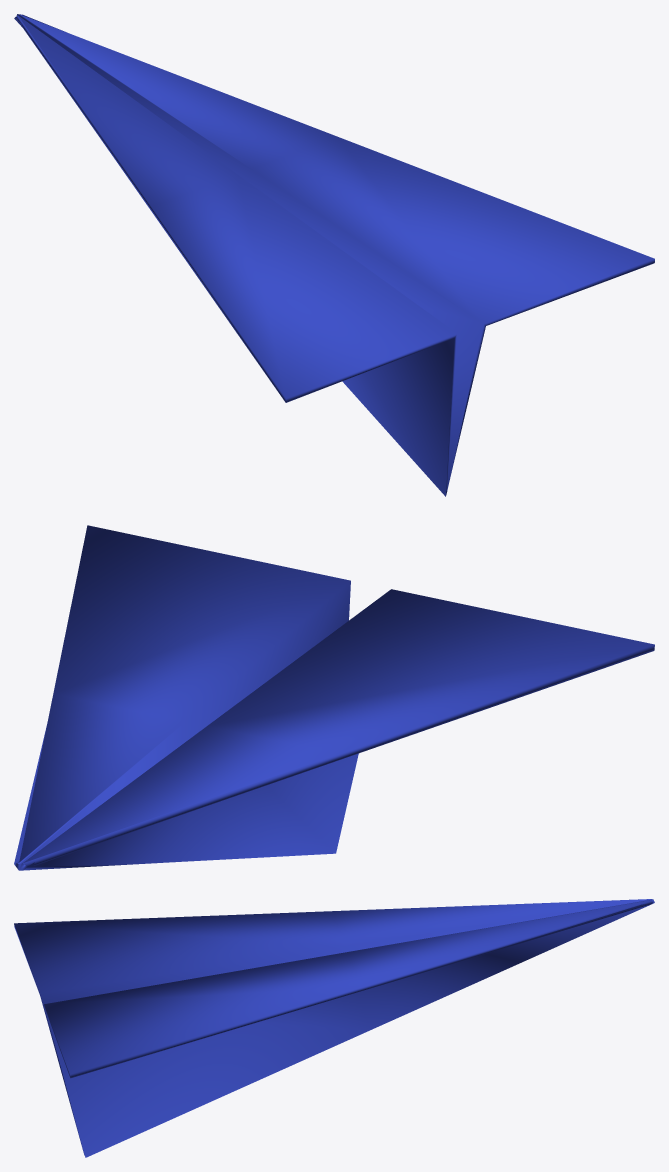
3 views of the same model, one above another, from view 1: azimuth 30°, elevation 25°; view 2: azimuth 150°, elevation 25°; view 3: azimuth 270°, elevation 25° (orthographic). The views are drawn at different scales.
Parts seen in each view (by area): view 1: Plane; view 2: Plane; view 3: Plane.
Boxes of the visible parts, bbox=[...] form: Plane: bbox=[14, 14, 654, 496]; Plane: bbox=[14, 525, 654, 870]; Plane: bbox=[14, 899, 654, 1157].
Bounding box in the file's own units: 1.98 × 1.22 × 3.23.
